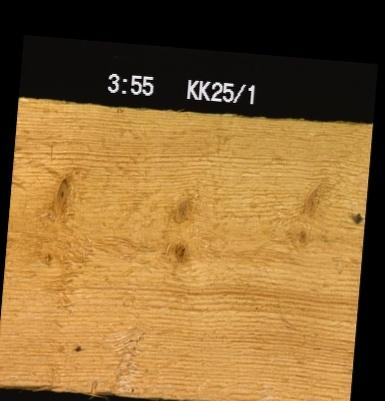small_knot: (294, 223, 313, 249)
sound_knot: (162, 180, 202, 226), (170, 236, 188, 265)
